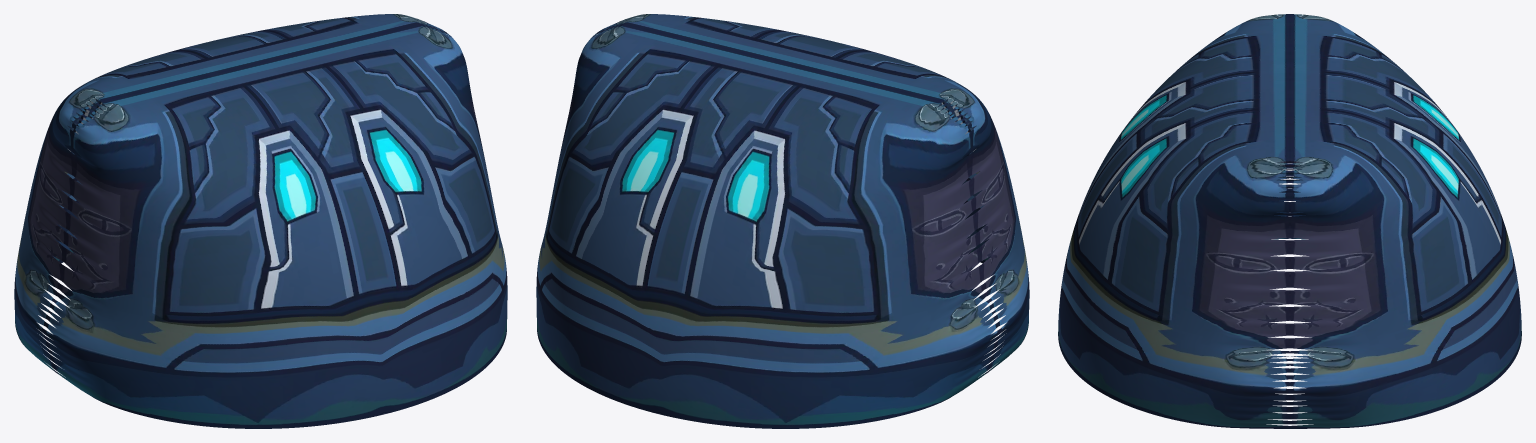
Rendered from twin_panel_cabinet.glb.
The picture shows the model from 3 angles, left to right: view 1: azimuth 30°, elevation 25°; view 2: azimuth 150°, elevation 25°; view 3: azimuth 270°, elevation 25°; orthographic projection. The views are drawn at different scales.
Visible parts, largest first — view 1: twin_panel_cabinet; view 2: twin_panel_cabinet; view 3: twin_panel_cabinet.
Part boxes in pixels (left/top/right/bottom): twin_panel_cabinet: left=14, top=14, right=507, bottom=428; twin_panel_cabinet: left=536, top=14, right=1029, bottom=428; twin_panel_cabinet: left=1058, top=14, right=1521, bottom=428.
Bounding box in the file's own units: 0.9888 × 0.5716 × 0.9709.
Materials: 1 (1 with a texture image).
